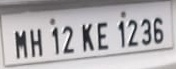character: (14, 30, 28, 58), (61, 25, 75, 53), (29, 28, 42, 57), (81, 23, 94, 51), (96, 22, 109, 49), (126, 19, 138, 46), (140, 18, 152, 45), (152, 17, 163, 44), (50, 26, 60, 55), (116, 20, 125, 47)
